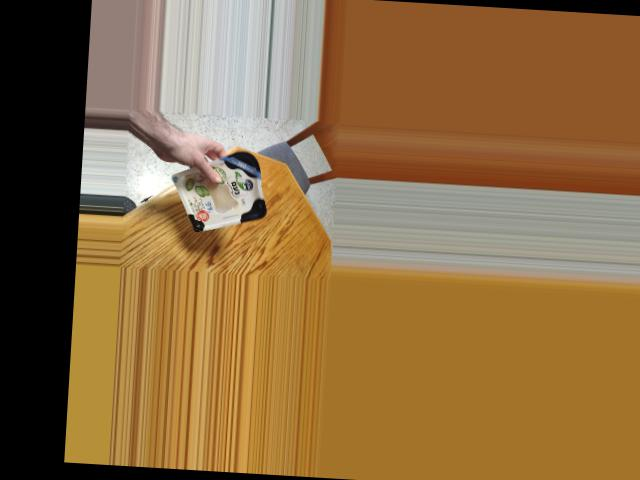cheese: (183, 145, 272, 234)
